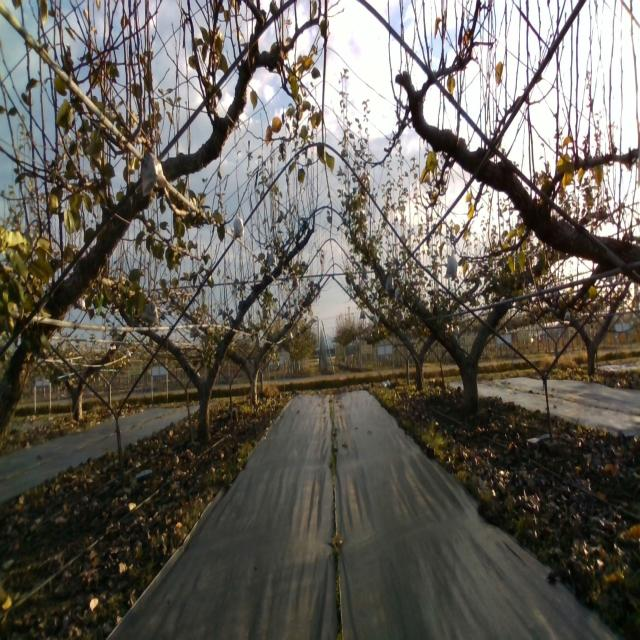pearbags: (141, 152, 169, 198), (444, 248, 457, 280), (233, 212, 244, 239)
